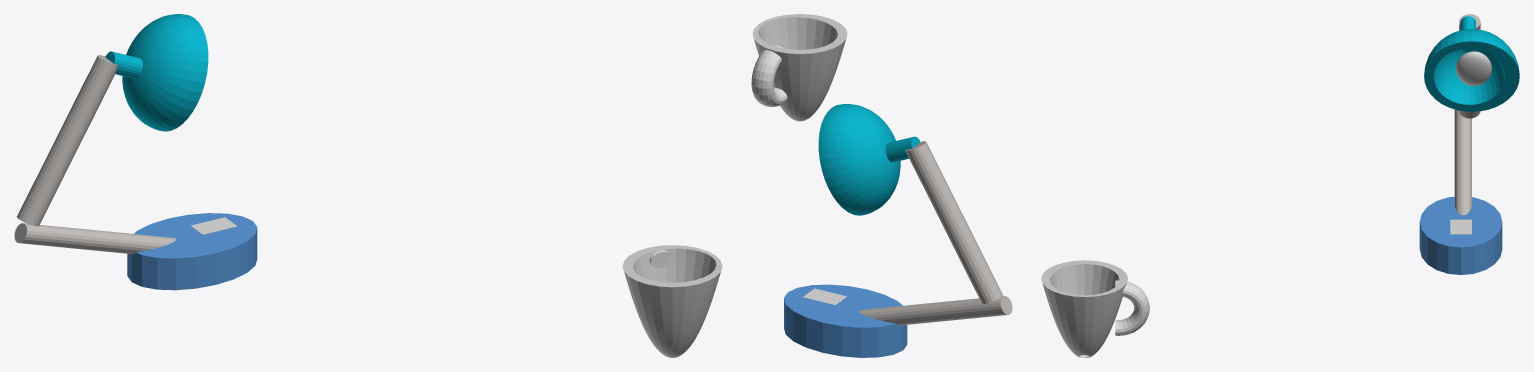
The model's file is Cool Amur-2.glb.
The picture shows the model from 3 angles, left to right: view 1: azimuth 30°, elevation 25°; view 2: azimuth 150°, elevation 25°; view 3: azimuth 270°, elevation 25°; orthographic projection. The views are drawn at different scales.
Visible parts, largest first — view 1: Mesh_Mesh_head_geo.001_lambert2SG.001; view 2: Mesh_Mesh_head_geo.001_lambert2SG.001; view 3: Mesh_Mesh_head_geo.001_lambert2SG.001.
Boxes of the visible parts, left/top/right/bottom form: Mesh_Mesh_head_geo.001_lambert2SG.001: left=14, top=14, right=722, bottom=357; Mesh_Mesh_head_geo.001_lambert2SG.001: left=751, top=14, right=1012, bottom=357; Mesh_Mesh_head_geo.001_lambert2SG.001: left=1041, top=14, right=1519, bottom=357.
Size of the model in its own units: 111 by 54.28 by 110.
